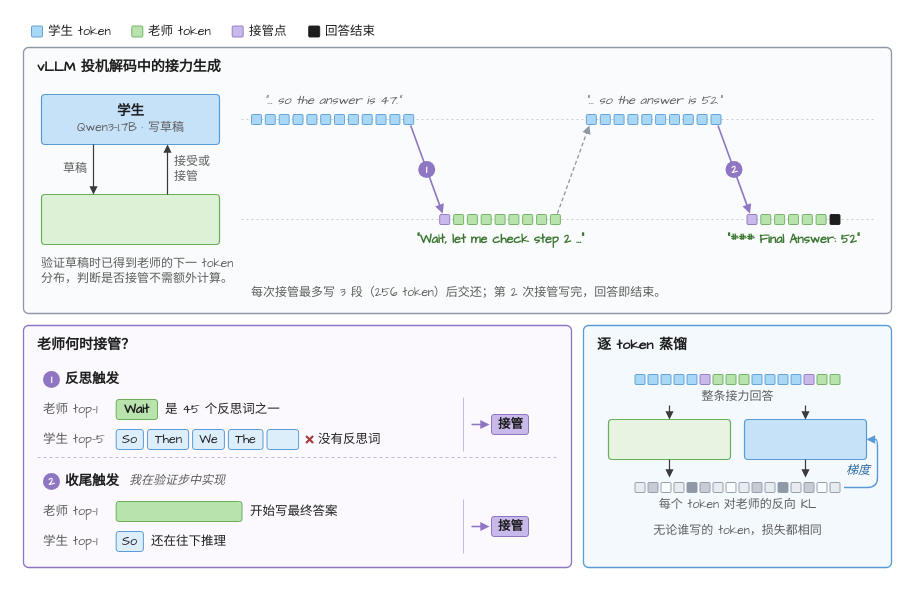
Image size: 914x590. Some labels were removed from this diagram. Here are the shapes that lost their labels. From the top down, the centre of each, then its label:
At (130,219): "老师 Qwen3-4B · 验证".
At (282,439): "Let".
At (669,439): "老师打分器 单独一张卡".
At (805,439): "学生 正在训练".
At (178,511): "### Final Answer".
